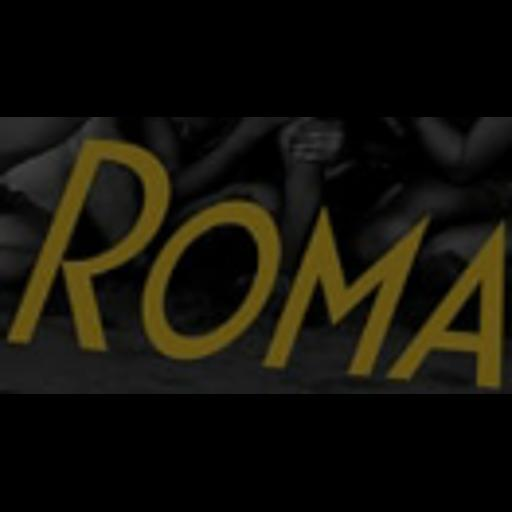Netflix: (0, 117, 512, 394)
